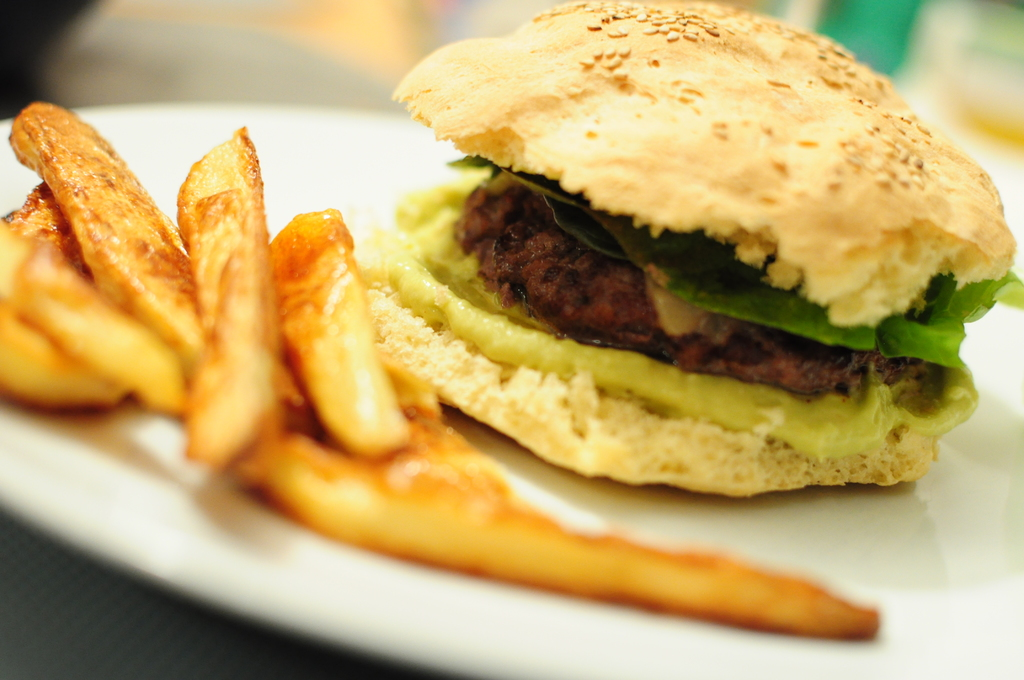French fries: (0, 125, 509, 517)
